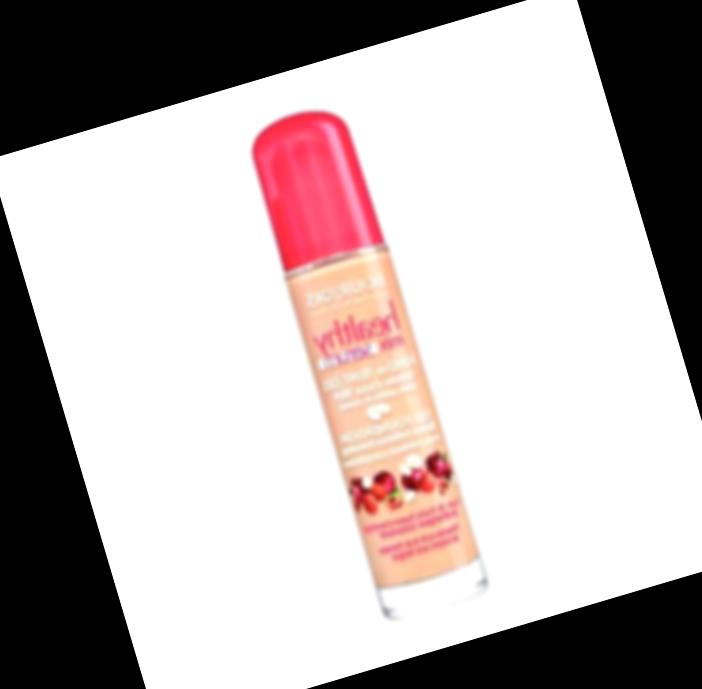cosmetic: (239, 98, 493, 620)
